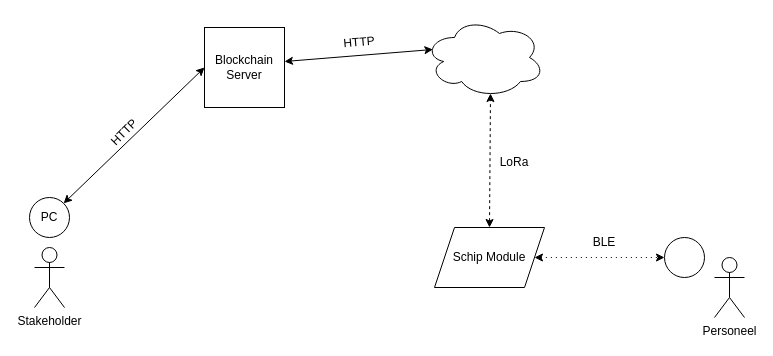
The diagram is 773 pixels wide and 356 high, and some of its shapes have lost their labels. Here are the shapes that lost their labels. From the top down, the centre of each, then its label:
At [484,57]: "TTN (Things Network)".
At [684,257]: "Phone".
